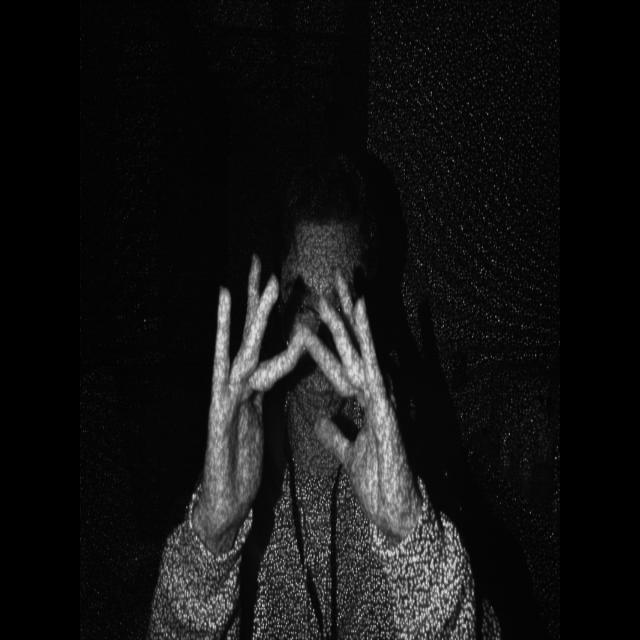REACH: (201, 249, 420, 530)
